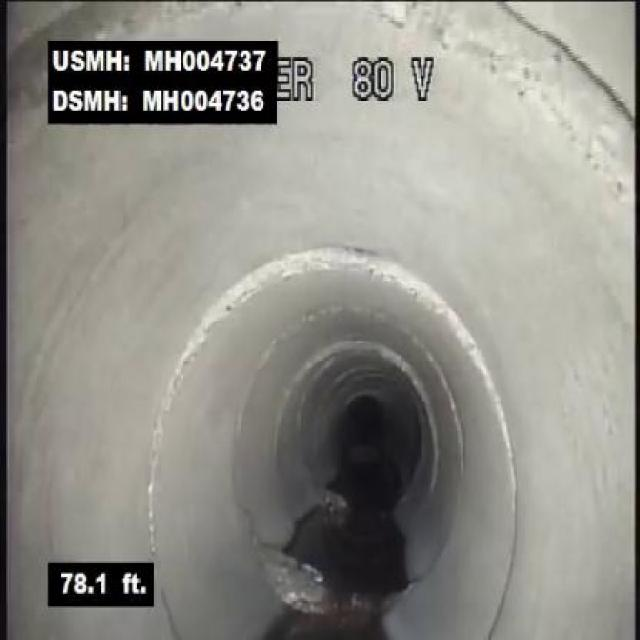Debris: (245, 528, 357, 628)
